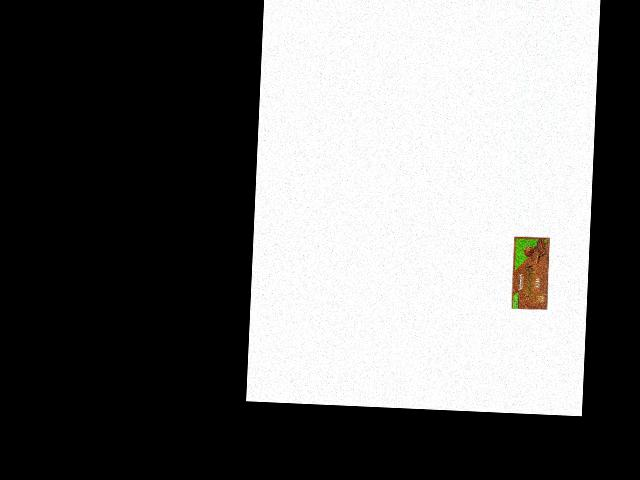chocolate: (509, 235, 553, 313)
